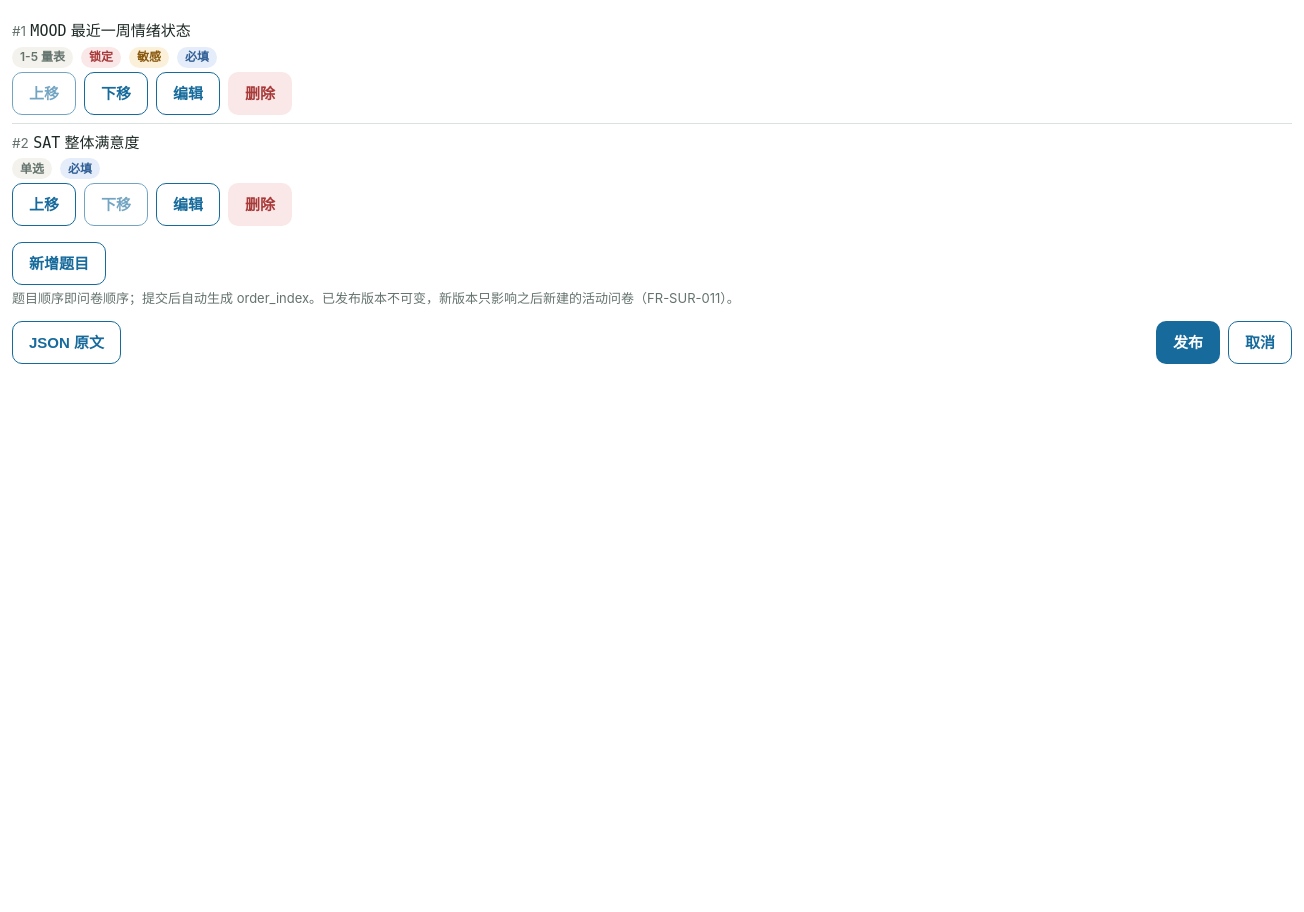
Test case: TemplateSchemaEditor（可视化模板题目编辑器，FR-SUR-001/011） › 修改锁定核心题需勾选确认后才能保存
Click the button "编辑" below "MOOD" at coordinates (188, 93), box [156,72,220,115]
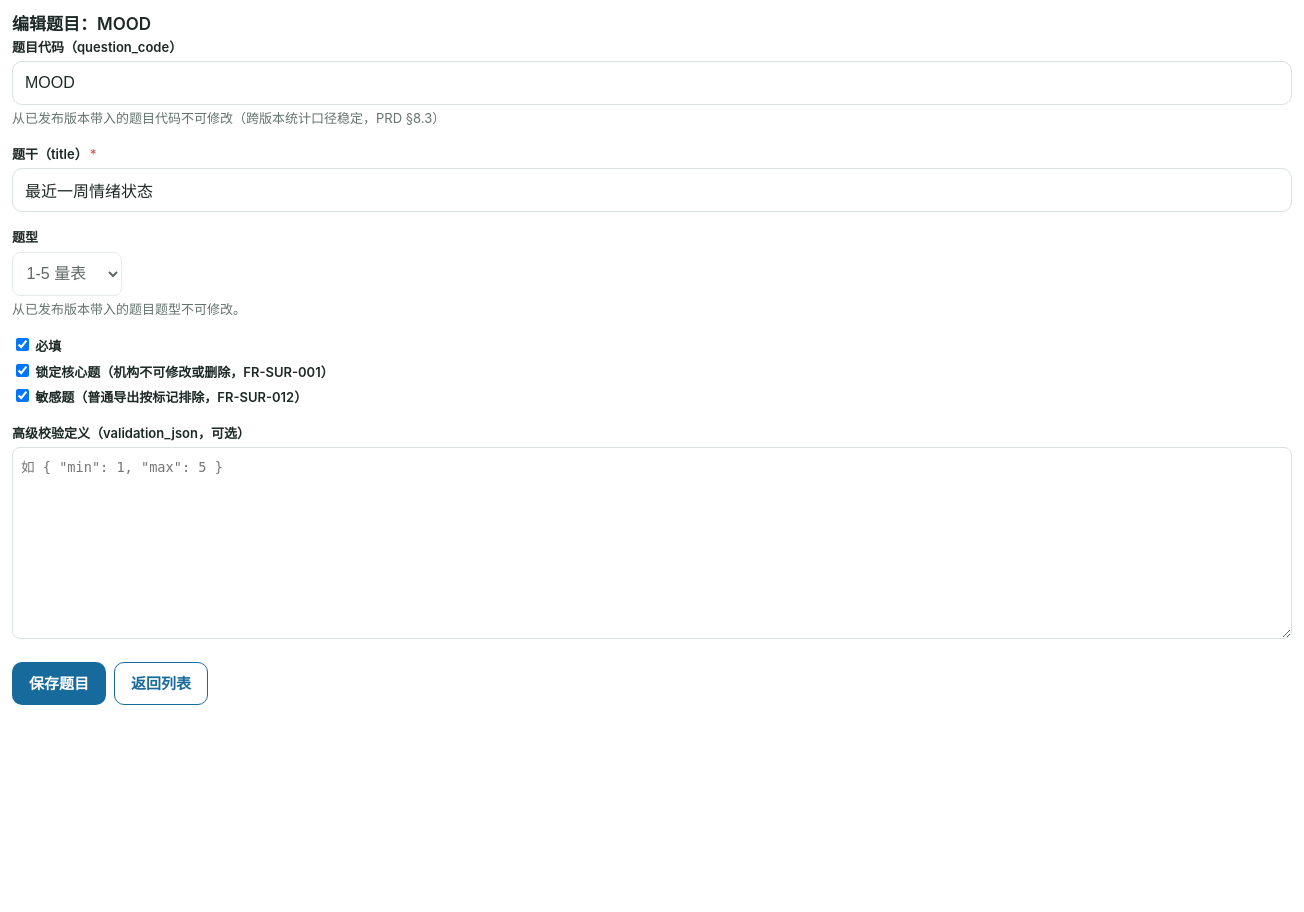
Replace the text in the field labelled "题干（title）*" with "改过的题干" at coordinates (652, 190), box [12,168,1292,212]
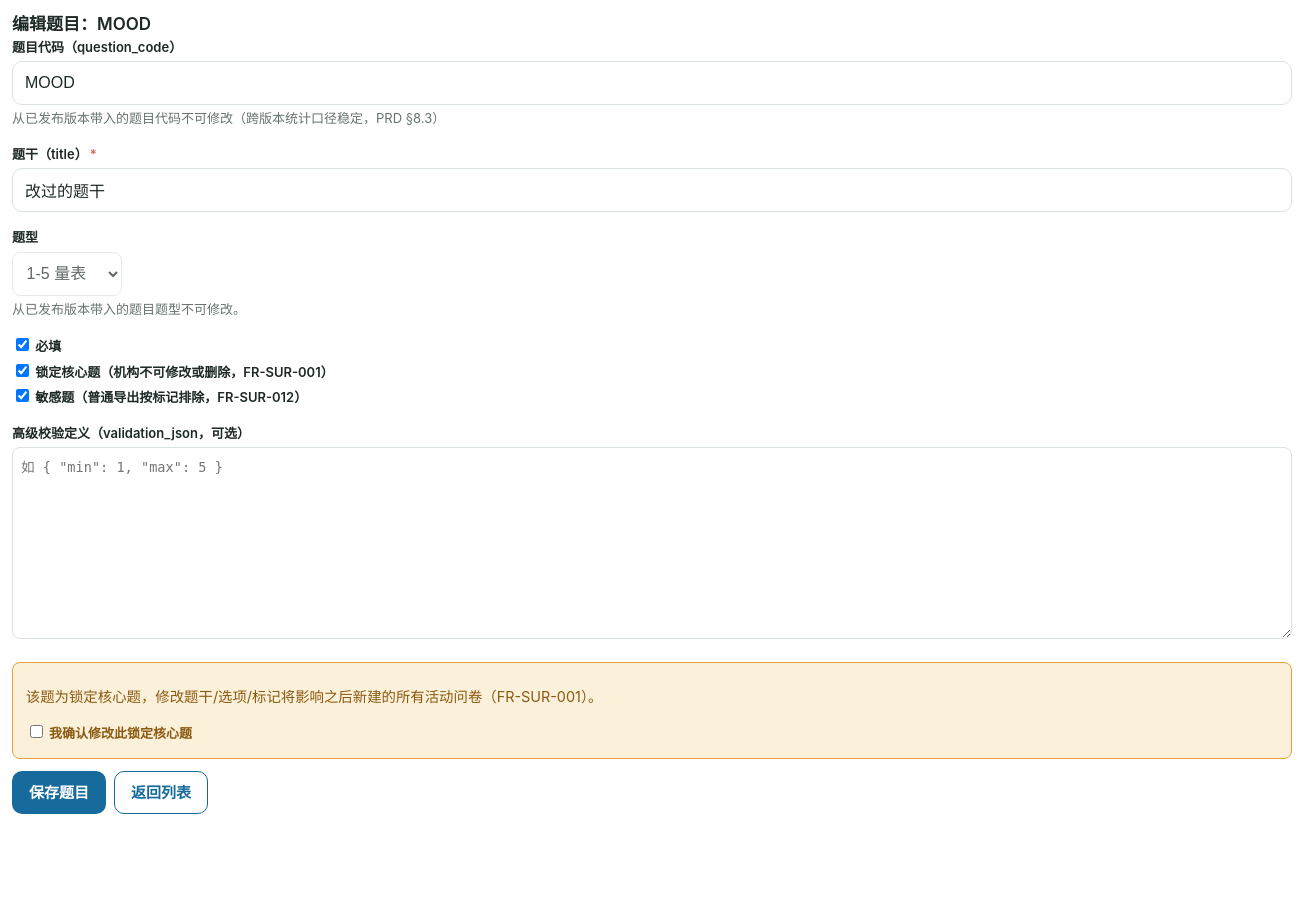
Click the button "保存题目" at coordinates (59, 792), box [12,771,106,814]
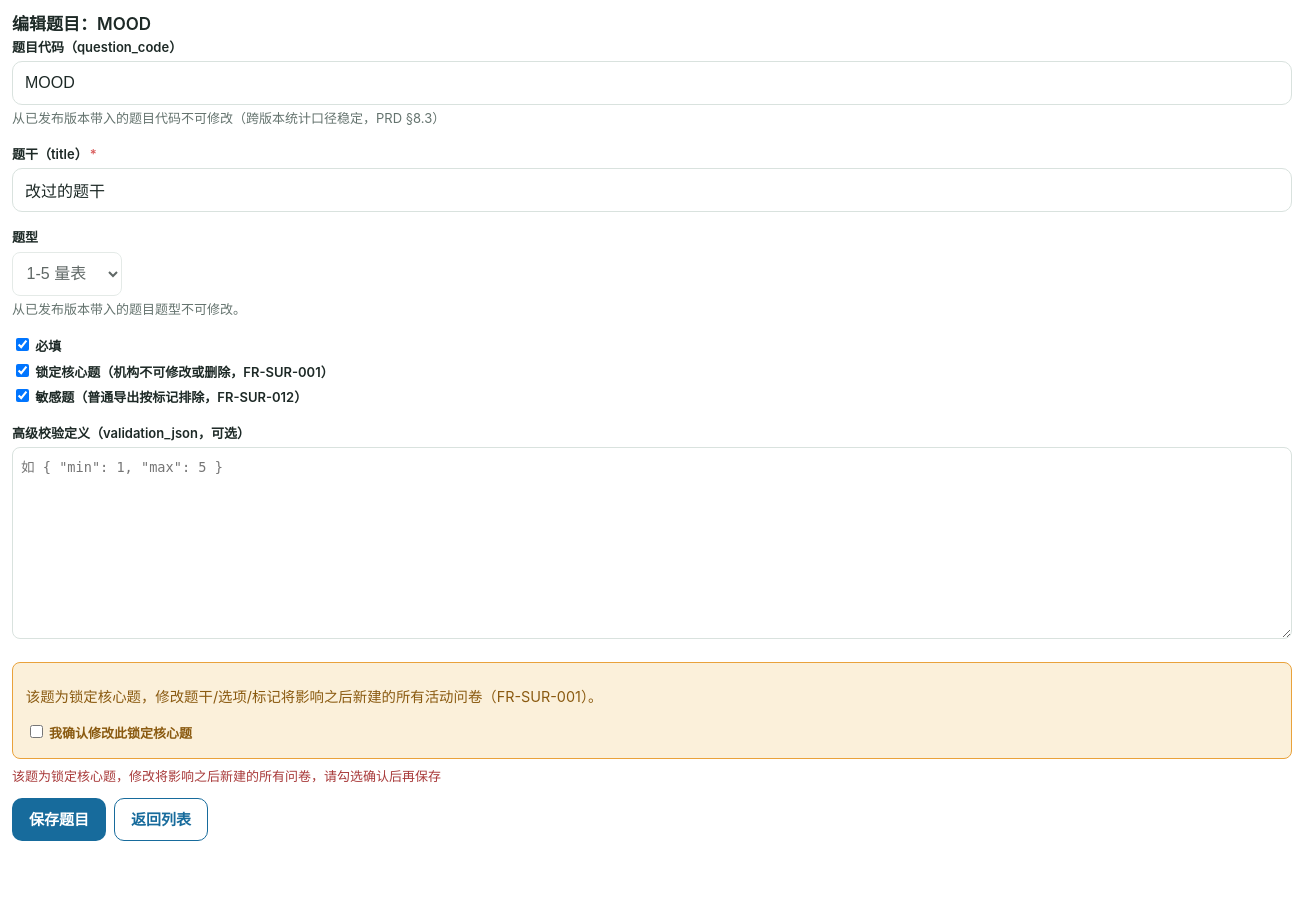
Result: the text "该题为锁定核心题，修改将影响之后新建的所有问卷，请勾选确认后再保存" is shown at [12,768,441,784]
Click the checkbox labelled "我确认修改此锁定核心题" at coordinates (36, 732), box [30,726,43,738]
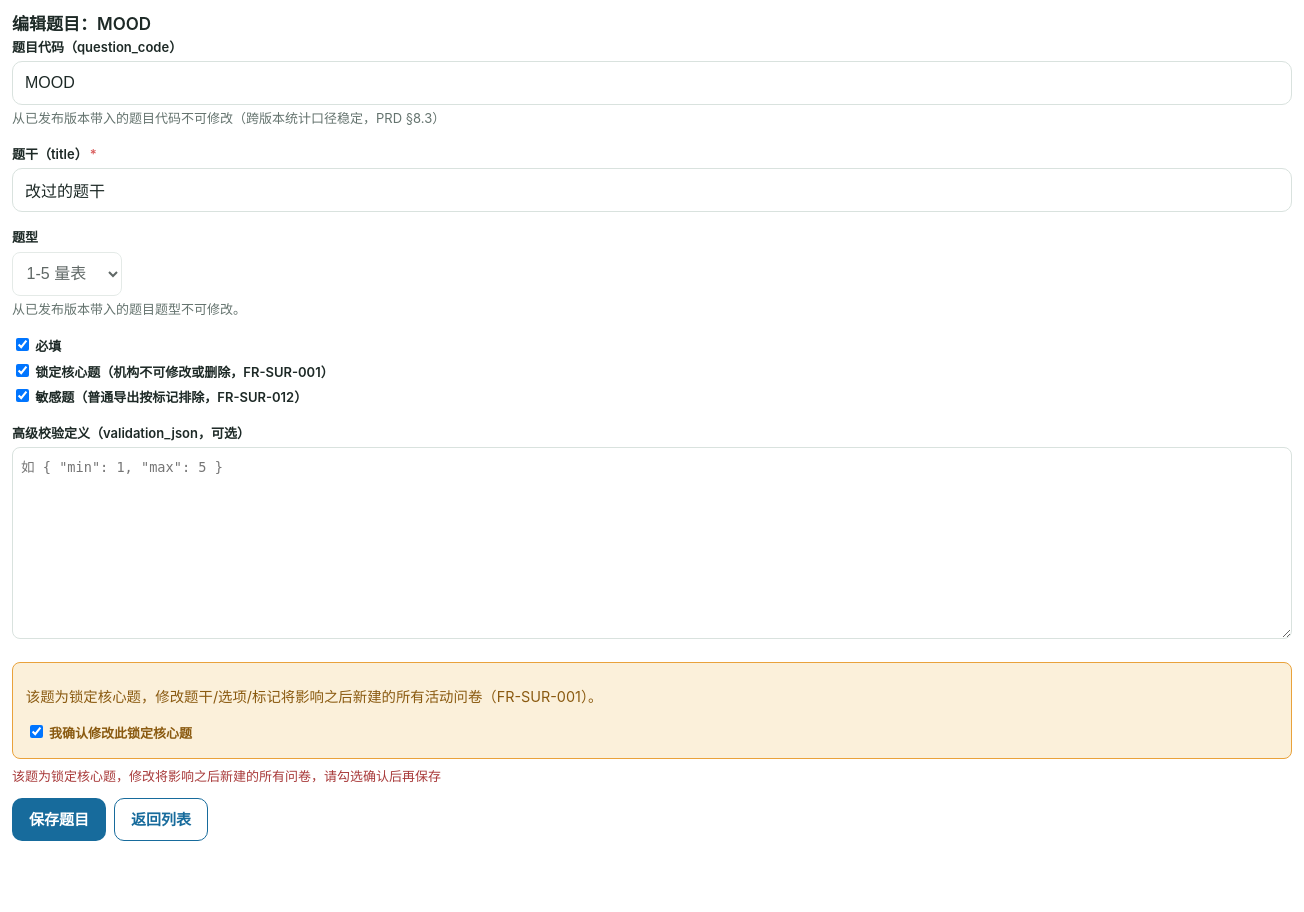
Click the button "保存题目" at coordinates (59, 820), box [12,798,106,841]
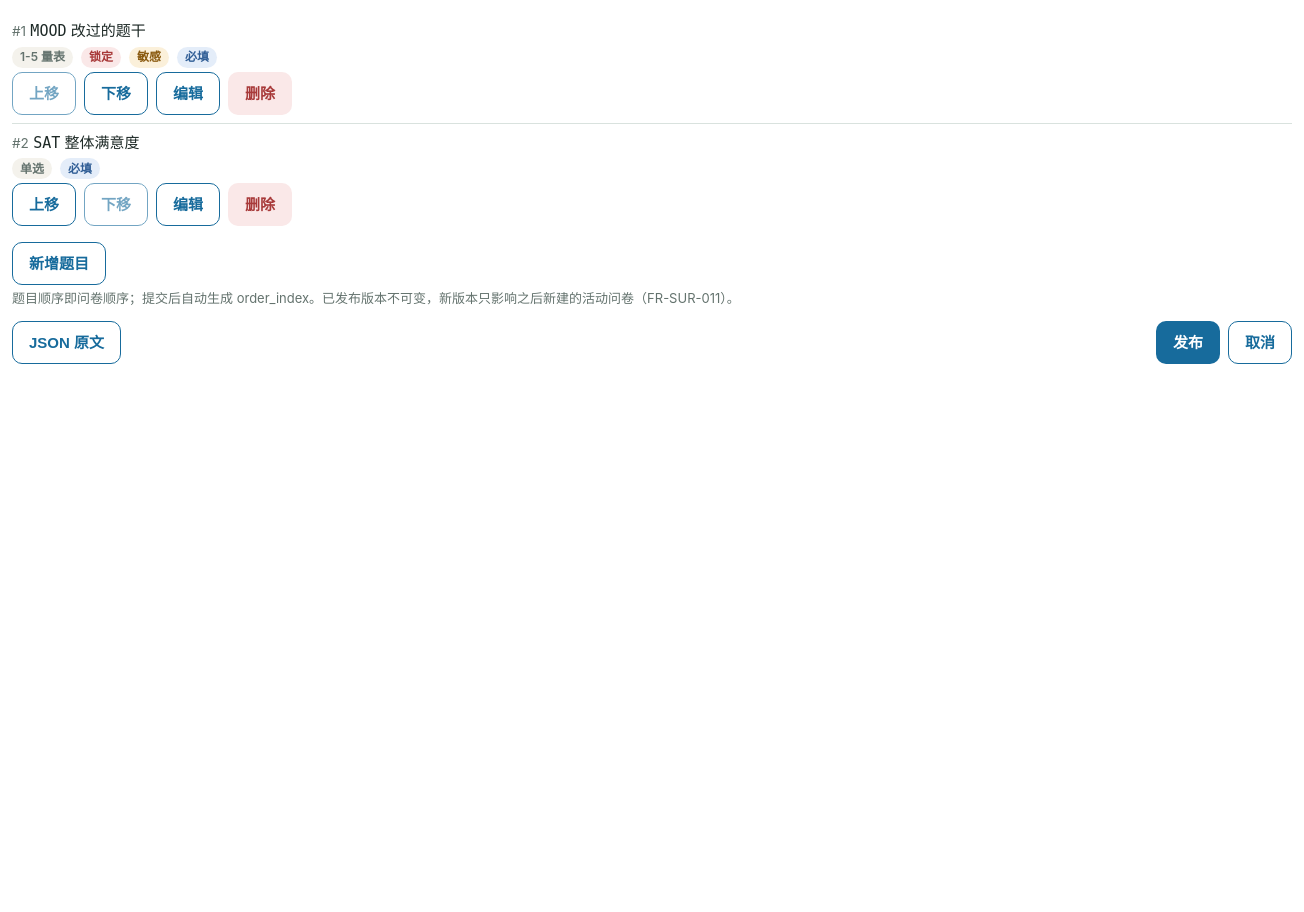
Result: the text "改过的题干" is shown at [71,21,146,40]
